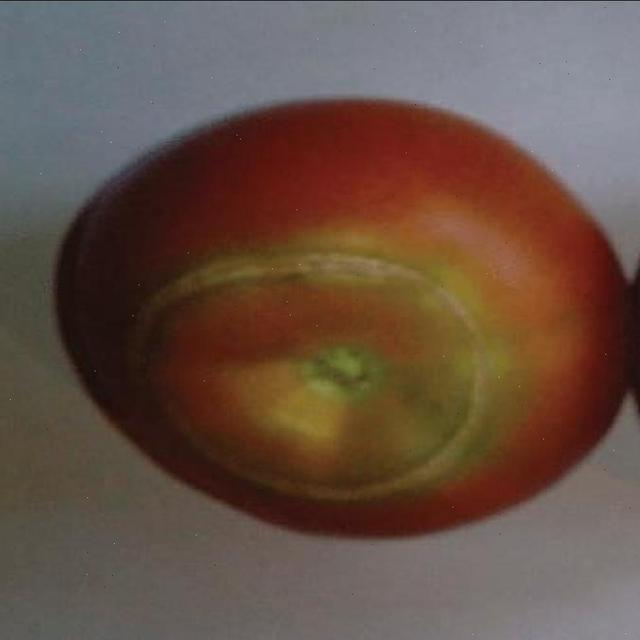Cracking Fruit: (71, 165, 336, 335)
